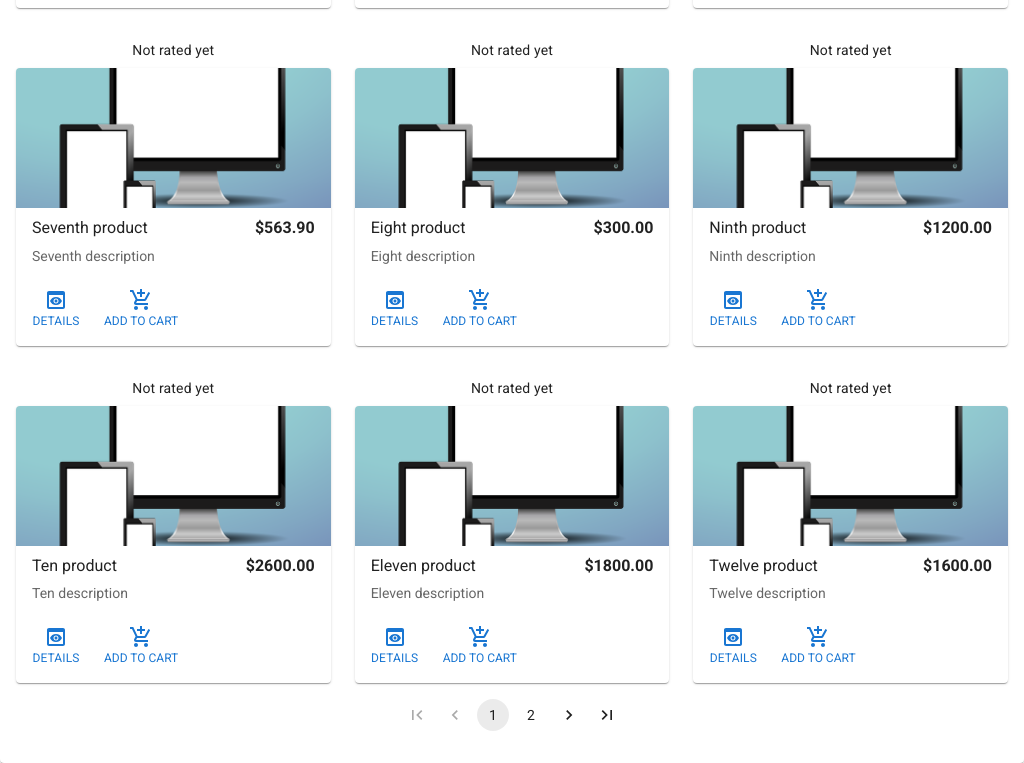
Test: AdminProducts component › Pagination › going to second page should display only the remaining 2 products
The width and height of the screenshot is (1024, 763).
(page scrolled)
Step 1. Click the button named "page 2" → (531,715), box [515, 699, 547, 731]
(page scrolled)
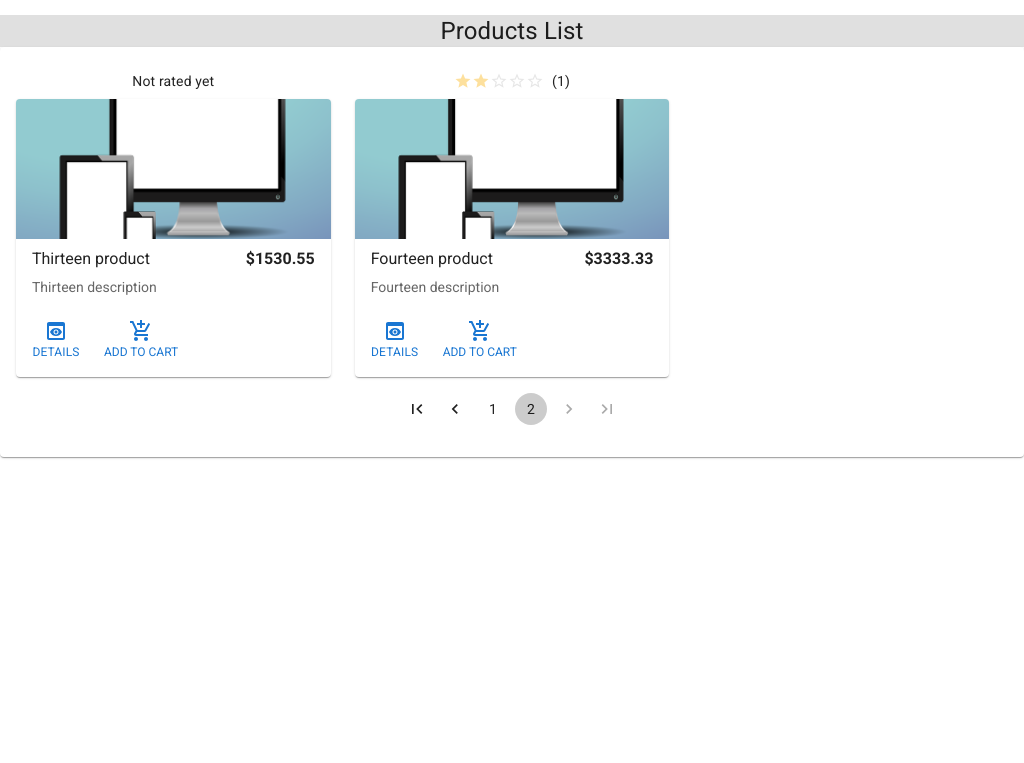
Now the text "Thirteen product" is shown, box [32, 247, 150, 271]
Now the text "Details" is shown 2 times, box [32, 343, 80, 362]; [371, 343, 418, 362]
